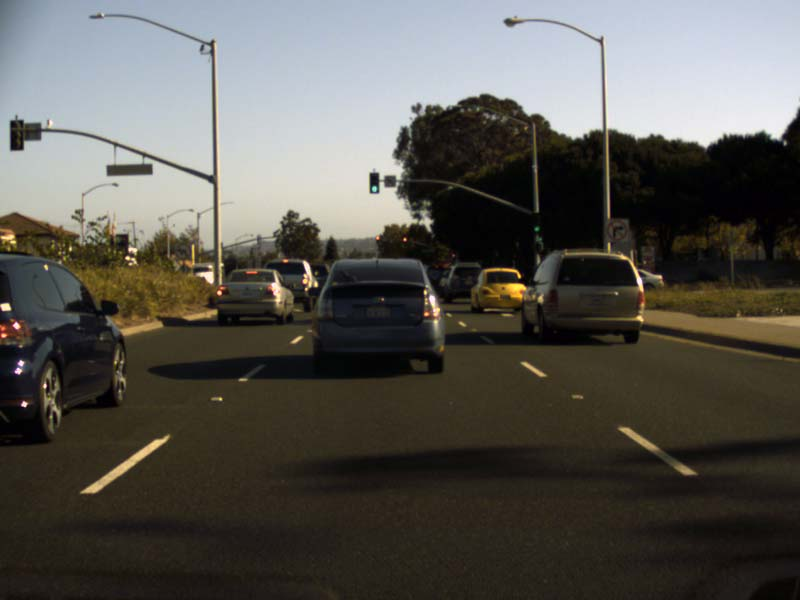Green: (369, 173, 379, 193), (531, 213, 541, 233)
Red: (400, 235, 408, 241), (450, 251, 455, 257), (375, 235, 380, 240)
